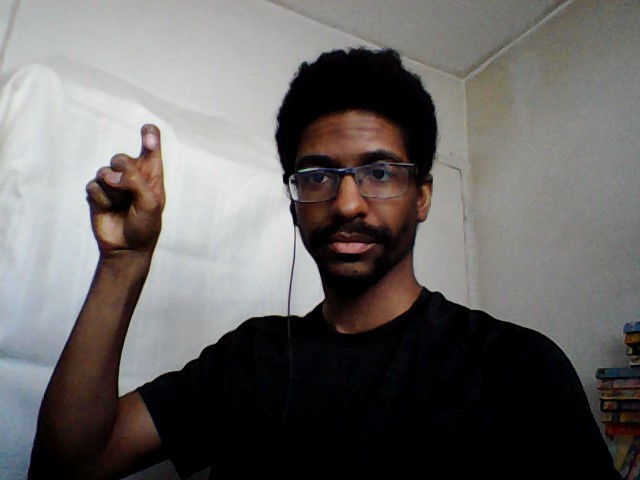x: (81, 119, 174, 256)
